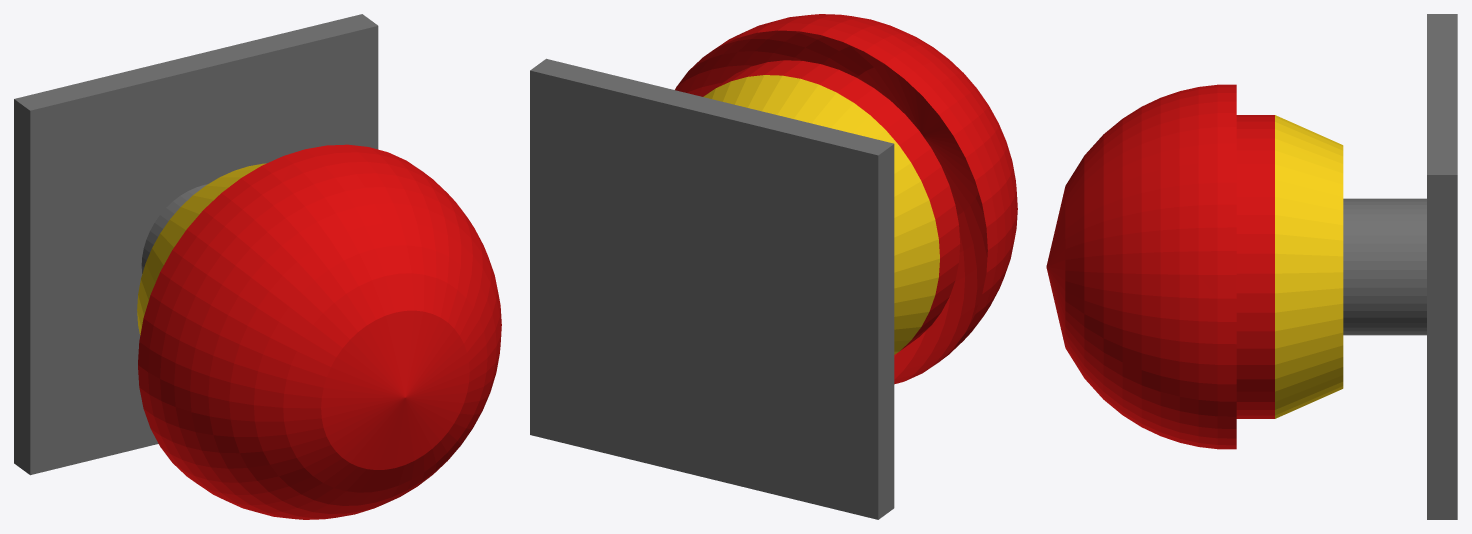
The model's file is emergency_stop_button.obj.
3 views of the same model, side by side, from view 1: azimuth 30°, elevation 25°; view 2: azimuth 150°, elevation 25°; view 3: azimuth 270°, elevation 25° (orthographic). The views are drawn at different scales.
Bounding box in the file's own units: 0.1 × 0.1 × 0.108.
